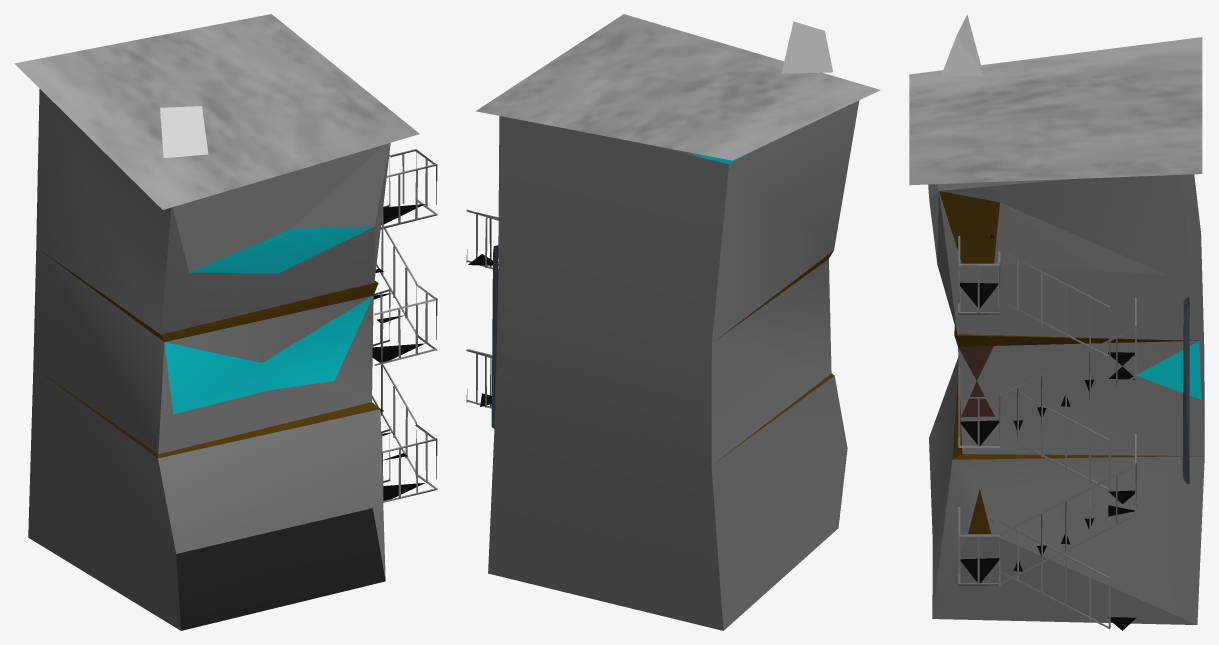
Rendered from PredioTorto-CinzaLOD2.fbx.
3 views of the same model, side by side, from view 1: azimuth 30°, elevation 25°; view 2: azimuth 150°, elevation 25°; view 3: azimuth 270°, elevation 25° (orthographic).
Visible parts, largest first — view 1: Predio3AndaresLOD2; view 2: Predio3AndaresLOD2; view 3: Predio3AndaresLOD2.
Boxes of the visible parts, left/top/right/bottom form: Predio3AndaresLOD2: left=14, top=14, right=437, bottom=630; Predio3AndaresLOD2: left=466, top=14, right=880, bottom=630; Predio3AndaresLOD2: left=909, top=14, right=1204, bottom=630.
Bounding box in the file's own units: 1025 × 1669 × 885.
